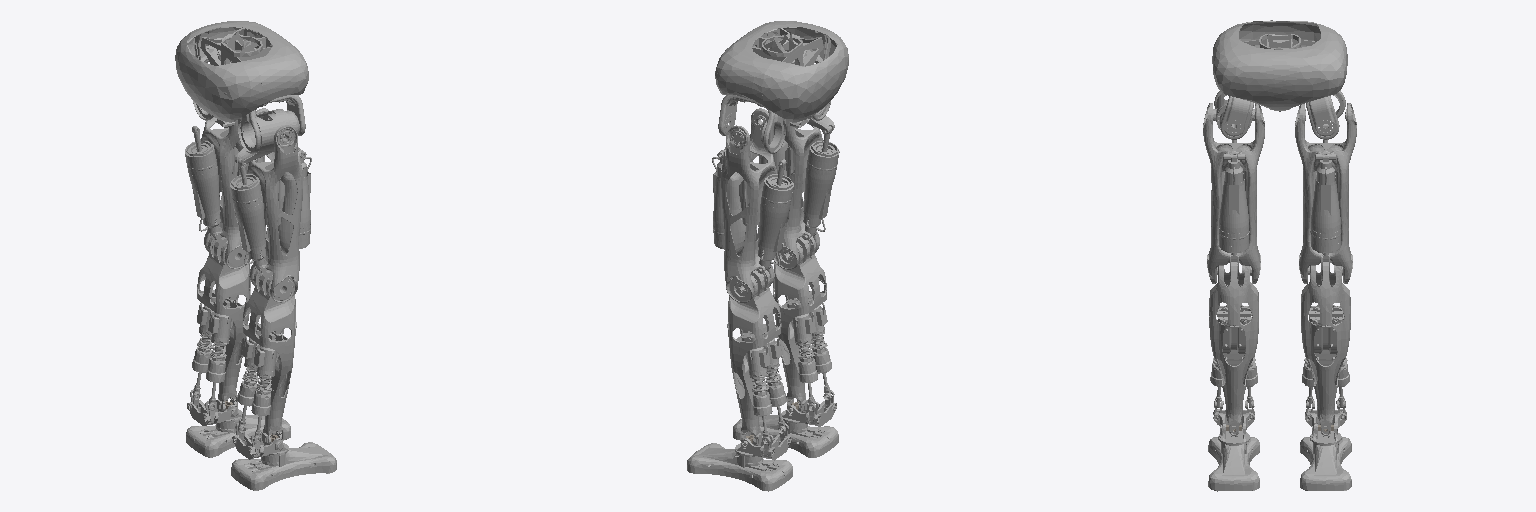
--- Facts derived from the render (not from the file) ---
The picture shows the robot from 3 angles, left to right: view 1: azimuth 30°, elevation 25°; view 2: azimuth 150°, elevation 25°; view 3: azimuth 270°, elevation 25°; orthographic projection.
Model RH5 with 51 links and 50 joints (28 revolute, 8 prismatic, 14 fixed), rooted at RH5_Root_Link, posed every joint at zero.
Visible links, largest first — view 1: RH5_Root_Link, LRHip3_Link, LRKnee_Link, LLKnee_Link, LRAnkle_FT, LLHip3_Link, LLAnkle_FT, LRHip3_Act1_Link, LLHip3_Act1_Link, LRHip2_Link, LLAnkle_B22_Link, LRAnkle_B22_Link (+4 smaller); view 2: RH5_Root_Link, LLHip3_Link, LLKnee_Link, LRKnee_Link, LLAnkle_FT, LRHip3_Link, LRAnkle_FT, LLHip3_Act1_Link, LRHip3_Act1_Link, LLHip1_Link, LRAnkle_B12_Link, LLAnkle_B12_Link (+3 smaller); view 3: RH5_Root_Link, LLKnee_Link, LRKnee_Link, LLHip3_Link, LRHip3_Link, LRAnkle_FT, LLAnkle_FT, LLKnee_B11_Link, LRKnee_B11_Link, LLHip1_Link, LRHip1_Link.
Link boxes in pixels (box(x1,y1,x2,y2)): RH5_Root_Link: box(175, 21, 308, 127); LRHip3_Link: box(247, 108, 306, 302); LRKnee_Link: box(243, 269, 296, 444); LLKnee_Link: box(197, 236, 250, 411); LRAnkle_FT: box(231, 433, 336, 490); LLHip3_Link: box(201, 117, 257, 268); LLAnkle_FT: box(186, 400, 290, 457); LRHip3_Act1_Link: box(230, 174, 265, 268); LLHip3_Act1_Link: box(185, 141, 220, 235); LRHip2_Link: box(235, 109, 299, 167); LLAnkle_B22_Link: box(206, 300, 231, 382); LRAnkle_B22_Link: box(251, 333, 276, 415); RH5_Root_Link: box(715, 21, 848, 127); LLHip3_Link: box(717, 108, 776, 302); LLKnee_Link: box(727, 270, 781, 445); LRKnee_Link: box(773, 236, 826, 412); LLAnkle_FT: box(687, 433, 792, 491); LRHip3_Link: box(766, 120, 822, 269); LRAnkle_FT: box(733, 400, 838, 457); LLHip3_Act1_Link: box(758, 174, 793, 269); LRHip3_Act1_Link: box(803, 141, 839, 236); LLHip1_Link: box(718, 95, 785, 153); LRAnkle_B12_Link: box(792, 300, 817, 382); LLAnkle_B12_Link: box(747, 334, 772, 416); RH5_Root_Link: box(1212, 20, 1347, 111); LLKnee_Link: box(1301, 254, 1350, 435); LRKnee_Link: box(1209, 255, 1258, 435); LLHip3_Link: box(1295, 103, 1356, 283); LRHip3_Link: box(1203, 103, 1264, 283); LRAnkle_FT: box(1208, 409, 1259, 491); LLAnkle_FT: box(1300, 409, 1351, 490); LLKnee_B11_Link: box(1310, 154, 1340, 253); LRKnee_B11_Link: box(1219, 154, 1249, 253); LLHip1_Link: box(1306, 90, 1345, 139); LRHip1_Link: box(1214, 91, 1253, 139).
Bounding box of the posed robot: 0.324 × 0.3709 × 1.15 m (x, y, z).
36 mesh visuals loaded from 22 distinct referenced files (20 binary STL); not drawn: 3 (reference not matched to a file when rendering).

URDF robot description (RH5):
<robot name="RH5">
  <joint name="FLC_FrontLeft" type="fixed">
    <origin xyz="0.13 -0.04 0.0274" rpy="3.1416 0.0 0.0"/>
    <axis xyz="0.0 0.0 0.0"/>
    <parent link="LLAnkle_FT"/>
    <child link="FLC_FrontLeft_Link"/>
  </joint>
  <link name="FLC_FrontLeft_Link">
    <collision name="FLC_FrontLeft_Collision">
      <origin xyz="0.0 0.0 0.0" rpy="0.0 0.0 0.0"/>
      <geometry>
        <sphere radius="0.017"/>
      </geometry>
    </collision>
  </link>
  <joint name="FLC_FrontRight" type="fixed">
    <origin xyz="0.13 0.04 0.0274" rpy="3.1416 0.0 0.0"/>
    <axis xyz="0.0 0.0 0.0"/>
    <parent link="LLAnkle_FT"/>
    <child link="FLC_FrontRight_Link"/>
  </joint>
  <link name="FLC_FrontRight_Link">
    <collision name="FLC_FrontRight_Collision">
      <origin xyz="0.0 0.0 0.0" rpy="0.0 0.0 0.0"/>
      <geometry>
        <sphere radius="0.017"/>
      </geometry>
    </collision>
  </link>
  <joint name="FLC_RearLeft" type="fixed">
    <origin xyz="-0.07 -0.04 0.0274" rpy="3.1416 0.0 0.0"/>
    <axis xyz="0.0 0.0 0.0"/>
    <parent link="LLAnkle_FT"/>
    <child link="FLC_RearLeft_Link"/>
  </joint>
  <link name="FLC_RearLeft_Link">
    <collision name="FLC_RearLeft_Collision">
      <origin xyz="0.0 0.0 0.0" rpy="0.0 0.0 0.0"/>
      <geometry>
        <sphere radius="0.017"/>
      </geometry>
    </collision>
  </link>
  <joint name="FLC_RearRight" type="fixed">
    <origin xyz="-0.07 0.04 0.0274" rpy="3.1416 0.0 0.0"/>
    <axis xyz="0.0 0.0 0.0"/>
    <parent link="LLAnkle_FT"/>
    <child link="FLC_RearRight_Link"/>
  </joint>
  <link name="FLC_RearRight_Link">
    <collision name="FLC_RearRight_Collision">
      <origin xyz="0.0 0.0 0.0" rpy="0.0 0.0 0.0"/>
      <geometry>
        <sphere radius="0.017"/>
      </geometry>
    </collision>
  </link>
  <link name="FL_SupportCenter"/>
  <joint name="FL_SupportCenter" type="fixed">
    <origin xyz="0.03 0.0 0.0444" rpy="3.1416 0.0 0.0"/>
    <axis xyz="0.0 0.0 0.0"/>
    <parent link="LLAnkle_FT"/>
    <child link="FL_SupportCenter"/>
  </joint>
  <joint name="FRC_FrontLeft" type="fixed">
    <origin xyz="0.13 -0.04 0.0274" rpy="3.1416 0.0 0.0"/>
    <axis xyz="0.0 0.0 0.0"/>
    <parent link="LRAnkle_FT"/>
    <child link="FRC_FrontLeft_Link"/>
  </joint>
  <link name="FRC_FrontLeft_Link">
    <collision name="FRC_FrontLeft_Collision">
      <origin xyz="0.0 0.0 0.0" rpy="0.0 0.0 0.0"/>
      <geometry>
        <sphere radius="0.017"/>
      </geometry>
    </collision>
  </link>
  <joint name="FRC_FrontRight" type="fixed">
    <origin xyz="0.13 0.04 0.0274" rpy="3.1416 0.0 0.0"/>
    <axis xyz="0.0 0.0 0.0"/>
    <parent link="LRAnkle_FT"/>
    <child link="FRC_FrontRight_Link"/>
  </joint>
  <link name="FRC_FrontRight_Link">
    <collision name="FRC_FrontRight_Collision">
      <origin xyz="0.0 0.0 0.0" rpy="0.0 0.0 0.0"/>
      <geometry>
        <sphere radius="0.017"/>
      </geometry>
    </collision>
  </link>
  <joint name="FRC_RearLeft" type="fixed">
    <origin xyz="-0.07 -0.04 0.0274" rpy="3.1416 0.0 0.0"/>
    <axis xyz="0.0 0.0 0.0"/>
    <parent link="LRAnkle_FT"/>
    <child link="FRC_RearLeft_Link"/>
  </joint>
  <link name="FRC_RearLeft_Link">
    <collision name="FRC_RearLeft_Collision">
      <origin xyz="0.0 0.0 0.0" rpy="0.0 0.0 0.0"/>
      <geometry>
        <sphere radius="0.017"/>
      </geometry>
    </collision>
  </link>
  <joint name="FRC_RearRight" type="fixed">
    <origin xyz="-0.07 0.04 0.0274" rpy="3.1416 0.0 0.0"/>
    <axis xyz="0.0 0.0 0.0"/>
    <parent link="LRAnkle_FT"/>
    <child link="FRC_RearRight_Link"/>
  </joint>
  <link name="FRC_RearRight_Link">
    <collision name="FRC_RearRight_Collision">
      <origin xyz="0.0 0.0 0.0" rpy="0.0 0.0 0.0"/>
      <geometry>
        <sphere radius="0.017"/>
      </geometry>
    </collision>
  </link>
  <link name="FR_SupportCenter"/>
  <joint name="FR_SupportCenter" type="fixed">
    <origin xyz="0.03 0.0 0.0444" rpy="3.1416 0.0 0.0"/>
    <axis xyz="0.0 0.0 0.0"/>
    <parent link="LRAnkle_FT"/>
    <child link="FR_SupportCenter"/>
  </joint>
  <joint name="LLAnkleBase" type="fixed">
    <origin xyz="0.42 0.0 0.0015" rpy="1.5708 0.0 -1.5708"/>
    <parent link="LLKnee_Link"/>
    <child link="LLAnkleBase_Link"/>
  </joint>
  <link name="LLAnkleBase_Link">
    <inertial>
      <origin xyz="0.0 0.0 0.0" rpy="0.0 0.0 0.0"/>
      <mass value="0.0"/>
      <inertia ixx="0.0" ixy="0.0" ixz="0.0" iyy="0.0" iyz="0.0" izz="0.0"/>
    </inertial>
  </link>
  <joint name="LLAnklePitch" type="revolute">
    <origin xyz="0.0 0.0 0.0" rpy="0.0 0.0 0.0"/>
    <axis xyz="0.0 1.0 0.0"/>
    <parent link="LLAnkleRoll_Link"/>
    <child link="LLAnklePitch_Link"/>
    <limit effort="200.0" lower="-0.8988445648" upper="0.7853981634" velocity="6.0"/>
  </joint>
  <link name="LLAnklePitch_Link">
    <inertial>
      <origin xyz="2.8493e-18 -1.3878e-16 0.0" rpy="0.0 0.0 0.0"/>
      <mass value="2.8252e-05"/>
      <inertia ixx="4.5912e-11" ixy="1.8118e-28" ixz="-1.4548e-27" iyy="6.6802e-11" iyz="5.3633e-27" izz="3.9725e-11"/>
    </inertial>
    <visual name="LLAnklePitch_Link_visual">
      <origin xyz="0.0 0.0 0.0" rpy="0.0 0.0 0.0"/>
      <geometry>
        <mesh filename="../meshes/AnklePitch_Link.STL"/>
      </geometry>
      <material name="">
        <color rgba="0.79216 0.81961 0.93333 1.0"/>
      </material>
    </visual>
  </link>
  <joint name="LLAnkleRoll" type="revolute">
    <origin xyz="0.0 0.0 0.0" rpy="0.0 0.0 0.0"/>
    <axis xyz="1.0 0.0 0.0"/>
    <parent link="LLAnkleBase_Link"/>
    <child link="LLAnkleRoll_Link"/>
    <limit effort="200.0" lower="-0.9948376736" upper="0.9948376736" velocity="6.0"/>
  </joint>
  <link name="LLAnkleRoll_Link">
    <inertial>
      <origin xyz="-4.1608e-08 7.2923e-08 -5.2997e-09" rpy="0.0 0.0 0.0"/>
      <mass value="0.02493"/>
      <inertia ixx="2.9269e-06" ixy="-7.8377e-12" ixz="-1.0382e-12" iyy="1.1591e-06" iyz="1.5876e-12" izz="3.5758e-06"/>
    </inertial>
    <visual name="LLAnkleRoll_Link_visual">
      <origin xyz="0.0 0.0 0.0" rpy="0.0 0.0 0.0"/>
      <geometry>
        <mesh filename="../meshes/AnkleRoll_Link.STL"/>
      </geometry>
      <material name="">
        <color rgba="0.64706 0.61961 0.58824 1.0"/>
      </material>
    </visual>
    <collision name="LLAnkleRoll_Link_collision">
      <origin xyz="0.0 0.0 0.0" rpy="0.0 0.0 0.0"/>
      <geometry>
        <mesh filename="../meshes/AnkleRoll_Link.obj"/>
      </geometry>
    </collision>
  </link>
  <joint name="LLAnkle_Act1" type="prismatic">
    <origin xyz="0.0 0.0 0.26597" rpy="0.0 0.0 0.0"/>
    <axis xyz="0.0 0.0 1.0"/>
    <parent link="LLAnkle_B12_Link"/>
    <child link="LLAnkle_Act1_Link"/>
    <limit effort="571.0" lower="-0.0449" upper="0.0647" velocity="0.266"/>
  </joint>
  <link name="LLAnkle_Act1_Link">
    <inertial>
      <origin xyz="0.0 0.0 0.0" rpy="0.0 0.0 0.0"/>
      <mass value="0.07896134655058572"/>
      <inertia ixx="0.0002465399999951976" ixy="2.2218334565684636e-09" ixz="-1.2305787261017842e-09" iyy="0.00024678" iyz="-6.276200589605272e-08" izz="1.0730000048024368e-06"/>
    </inertial>
    <visual name="LLAnkle_Act1_Link_visual">
      <origin xyz="0.0 0.0 0.0" rpy="0.0 3.14159 1.57079632679"/>
      <geometry>
        <mesh filename="../meshes/Ankle_Act1_Link.STL"/>
      </geometry>
      <material name="">
        <color rgba="0.69804 0.69804 0.69804 1.0"/>
      </material>
    </visual>
    <collision name="LLAnkle_Act1_Link_collision">
      <origin xyz="0.0 0.0 0.0" rpy="0.0 3.14159 1.57079632679"/>
      <geometry>
        <mesh filename="../meshes/Ankle_Act1_Link.obj"/>
      </geometry>
    </collision>
  </link>
  <joint name="LLAnkle_Act2" type="prismatic">
    <origin xyz="0.0 0.0 0.26597" rpy="0.0 0.0 0.0"/>
    <axis xyz="0.0 0.0 1.0"/>
    <parent link="LLAnkle_B22_Link"/>
    <child link="LLAnkle_Act2_Link"/>
    <limit effort="571.0" lower="-0.0449" upper="0.0647" velocity="0.266"/>
  </joint>
  <link name="LLAnkle_Act2_Link">
    <inertial>
      <origin xyz="0.0 0.0 0.0" rpy="0.0 -0.0 0.0"/>
      <mass value="0.07896134655058568"/>
      <inertia ixx="0.00024653999999529885" ixy="-2.1503334660041774e-09" ixz="-1.2114887257947331e-09" iyy="0.00024678" iyz="6.275800570632389e-08" izz="1.0730000047011228e-06"/>
    </inertial>
    <visual name="LLAnkle_Act2_Link_visual">
      <origin xyz="0.0 0.0 0.0" rpy="0.0 3.14159 0.0"/>
      <geometry>
        <mesh filename="../meshes/Ankle_Act2_Link.STL"/>
      </geometry>
      <material name="">
        <color rgba="0.69804 0.69804 0.69804 1.0"/>
      </material>
    </visual>
    <collision name="LLAnkle_Act2_Link_collision">
      <origin xyz="0.0 0.0 0.0" rpy="0.0 3.14159 0.0"/>
      <geometry>
        <mesh filename="../meshes/Ankle_Act2_Link.obj"/>
      </geometry>
    </collision>
  </link>
  <joint name="LLAnkle_B11" type="revolute">
    <origin xyz="-0.0223 0.025 0.29127" rpy="3.091 -0.174503 3.14159"/>
    <axis xyz="1.0 0.0 0.0"/>
    <parent link="LLAnkleBase_Link"/>
    <child link="LLAnkle_B11_Link"/>
    <limit effort="0.0" lower="0" upper="0" velocity="0.0"/>
  </joint>
  <link name="LLAnkle_B11_Link">
    <inertial>
      <origin xyz="-0.0026075 -1.6785e-12 0.0015126" rpy="0.0 0.0 0.0"/>
      <mass value="0.00654"/>
      <inertia ixx="1.5907e-06" ixy="3.9038e-14" ixz="8.7457e-09" iyy="1.8739e-06" iyz="8.1942e-15" izz="3.3241e-06"/>
    </inertial>
    <visual name="LLAnkle_B11_Link_visual">
      <origin xyz="0.0 0.0 0.0" rpy="0.0 0.0 0.0"/>
      <geometry>
        <mesh filename="../meshes/Ankle_B11_Link.STL"/>
      </geometry>
      <material name="">
        <color rgba="0.69804 0.69804 0.69804 1.0"/>
      </material>
    </visual>
    <collision name="LLAnkle_B11_Link_collision">
      <origin xyz="0.0 0.0 0.0" rpy="0.0 0.0 0.0"/>
      <geometry>
        <mesh filename="../meshes/Ankle_B11_Link.obj"/>
      </geometry>
    </collision>
  </link>
  <joint name="LLAnkle_B12" type="revolute">
    <origin xyz="0.0 0.0 0.0" rpy="0.0 -0.0060102 0.0"/>
    <axis xyz="0.0 1.0 0.0"/>
    <parent link="LLAnkle_B11_Link"/>
    <child link="LLAnkle_B12_Link"/>
    <limit effort="0.0" lower="0" upper="0" velocity="0.0"/>
  </joint>
  <link name="LLAnkle_B12_Link">
    <inertial>
      <origin xyz="0.0 0.0 0.0" rpy="0.0 -0.0 0.0"/>
      <mass value="0.626756605161674"/>
      <inertia ixx="0.0024658002179549095" ixy="-7.781387113609205e-08" ixz="4.106487105614771e-05" iyy="0.0024841" iyz="4.2541020648759203e-07" izz="0.0001561197820450909"/>
    </inertial>
    <visual name="LLAnkle_B12_Link_visual">
      <origin xyz="0.0 0.0 0.0" rpy="0.0 3.14159 0.0"/>
      <geometry>
        <mesh filename="../meshes/Ankle_B12_Link.STL"/>
      </geometry>
      <material name="">
        <color rgba="0.69804 0.69804 0.69804 1.0"/>
      </material>
    </visual>
    <collision name="LLAnkle_B12_Link_collision">
      <origin xyz="0.0 0.0 0.0" rpy="0.0 3.14159 0.0"/>
      <geometry>
        <mesh filename="../meshes/Ankle_B12_Link.obj"/>
      </geometry>
    </collision>
  </link>
  <joint name="LLAnkle_B21" type="revolute">
    <origin xyz="-0.0223 -0.025 0.29127" rpy="-3.09098 -0.174503 3.14159"/>
    <axis xyz="1.0 0.0 0.0"/>
    <parent link="LLAnkleBase_Link"/>
    <child link="LLAnkle_B21_Link"/>
    <limit effort="0.0" lower="0" upper="0" velocity="0.0"/>
  </joint>
  <link name="LLAnkle_B21_Link">
    <inertial>
      <origin xyz="-0.0026075 1.5362e-12 0.0015126" rpy="0.0 0.0 0.0"/>
      <mass value="0.00654"/>
      <inertia ixx="1.5907e-06" ixy="3.9046e-14" ixz="8.7457e-09" iyy="1.8739e-06" iyz="-5.5038e-15" izz="3.3241e-06"/>
    </inertial>
    <visual name="LLAnkle_B21_Link_visual">
      <origin xyz="0.0 0.0 0.0" rpy="0.0 0.0 0.0"/>
      <geometry>
        <mesh filename="../meshes/Ankle_B21_Link.STL"/>
      </geometry>
      <material name="">
        <color rgba="0.69804 0.69804 0.69804 1.0"/>
      </material>
    </visual>
    <collision name="LLAnkle_B21_Link_collision">
      <origin xyz="0.0 0.0 0.0" rpy="0.0 0.0 0.0"/>
      <geometry>
        <mesh filename="../meshes/Ankle_B21_Link.obj"/>
      </geometry>
    </collision>
  </link>
  <joint name="LLAnkle_B22" type="revolute">
    <origin xyz="0.0 0.0 0.0" rpy="0.0 -0.0060102 0.0"/>
    <axis xyz="0.0 1.0 0.0"/>
    <parent link="LLAnkle_B21_Link"/>
    <child link="LLAnkle_B22_Link"/>
    <limit effort="0.0" lower="0" upper="0" velocity="0.0"/>
  </joint>
  <link name="LLAnkle_B22_Link">
    <inertial>
      <origin xyz="0.0 0.0 0.0" rpy="0.0 0.0 0.0"/>
      <mass value="0.6267566051616451"/>
      <inertia ixx="0.0024658002179549095" ixy="-7.617188419175961e-08" ixz="4.106487105614771e-05" iyy="0.0024841" iyz="4.204902021304149e-07" izz="0.0001561197820450909"/>
    </inertial>
    <visual name="LLAnkle_B22_Link_visual">
      <origin xyz="0.0 0.0 0.0" rpy="0.0 3.14159 0.0"/>
      <geometry>
        <mesh filename="../meshes/Ankle_B22_Link.STL"/>
      </geometry>
      <material name="">
        <color rgba="0.69804 0.69804 0.69804 1.0"/>
      </material>
    </visual>
    <collision name="LLAnkle_B22_Link_collision">
      <origin xyz="0.0 0.0 0.0" rpy="0.0 3.14159 0.0"/>
      <geometry>
        <mesh filename="../meshes/Ankle_B22_Link.obj"/>
      </geometry>
    </collision>
  </link>
  <joint name="LLAnkle_E11" type="revolute">
    <origin xyz="-0.07 0.04 0.0" rpy="0.05066 0.0 0.0"/>
    <axis xyz="1.0 0.0 0.0"/>
    <parent link="LLAnklePitch_Link"/>
    <child link="LLAnkle_E11_Link"/>
    <limit effort="0.0" lower="0" upper="0" velocity="0.0"/>
  </joint>
  <link name="LLAnkle_E11_Link">
    <inertial>
      <origin xyz="-3.2627e-08 -0.00061479 0.011938" rpy="0.0 0.0 0.0"/>
      <mass value="0.025"/>
      <inertia ixx="5.6966e-06" ixy="2.0874e-13" ixz="-6.1394e-13" iyy="5.4356e-06" iyz="2.0391e-07" izz="1.4865e-06"/>
    </inertial>
    <visual name="LLAnkle_E11_Link_visual">
      <origin xyz="0.0 0.0 0.0" rpy="0.0 0.0 0.0"/>
      <geometry>
        <mesh filename="../meshes/Ankle_E11_Link.STL"/>
      </geometry>
      <material name="">
        <color rgba="0.69804 0.69804 0.69804 1.0"/>
      </material>
    </visual>
    <collision name="LLAnkle_E11_Link_collision">
      <origin xyz="0.0 0.0 0.0" rpy="0.0 0.0 0.0"/>
      <geometry>
        <mesh filename="../meshes/Ankle_E11_Link.obj"/>
      </geometry>
    </collision>
  </link>
  <joint name="LLAnkle_E21" type="revolute">
    <origin xyz="-0.07 -0.04 0.0" rpy="-0.05066 0.0 0.0"/>
    <axis xyz="1.0 0.0 0.0"/>
    <parent link="LLAnklePitch_Link"/>
    <child link="LLAnkle_E21_Link"/>
    <limit effort="0.0" lower="0" upper="0" velocity="0.0"/>
  </joint>
  <link name="LLAnkle_E21_Link">
    <inertial>
      <origin xyz="-3.2627e-08 0.00061479 0.011938" rpy="0.0 0.0 0.0"/>
      <mass value="0.025"/>
      <inertia ixx="5.6966e-06" ixy="-2.0874e-13" ixz="-6.1394e-13" iyy="5.4356e-06" iyz="-2.0391e-07" izz="1.4865e-06"/>
    </inertial>
    <visual name="LLAnkle_E21_Link_visual">
      <origin xyz="0.0 0.0 0.0" rpy="0.0 0.0 0.0"/>
      <geometry>
        <mesh filename="../meshes/Ankle_E21_Link.STL"/>
      </geometry>
      <material name="">
        <color rgba="0.69804 0.69804 0.69804 1.0"/>
      </material>
    </visual>
    <collision name="LLAnkle_E21_Link_collision">
      <origin xyz="0.0 0.0 0.0" rpy="0.0 0.0 0.0"/>
      <geometry>
        <mesh filename="../meshes/Ankle_E21_Link.obj"/>
      </geometry>
    </collision>
  </link>
  <link name="LLAnkle_FT">
    <inertial>
      <origin xyz="0.016102 4.5932e-05 0.0078533" rpy="0.0 0.0 0.0"/>
      <mass value="1.2348"/>
      <inertia ixx="0.0018722" ixy="1.7891e-07" ixz="-0.00077672" iyy="0.0072567" iyz="3.8393e-06" izz="0.007267"/>
    </inertial>
    <visual name="LLAnkle_FT_visual">
      <origin xyz="0.0 0.0 0.0" rpy="0.0 0.0 0.0"/>
      <geometry>
        <mesh filename="../meshes/FL_FT_Link.STL"/>
      </geometry>
      <material name="">
        <color rgba="0.69804 0.69804 0.69804 1.0"/>
      </material>
    </visual>
    <collision name="LLAnkle_FT_collision">
      <origin xyz="0.0 0.0 0.0" rpy="0.0 0.0 0.0"/>
      <geometry>
        <mesh filename="../meshes/FL_FT_Link.obj"/>
      </geometry>
    </collision>
  </link>
  <joint name="LLAnkle_FT" type="fixed">
    <origin xyz="0.0 0.0 -0.058972" rpy="-3.1416 0.0 -1.2151e-16"/>
    <axis xyz="0.0 0.0 0.0"/>
    <parent link="LLAnklePitch_Link"/>
    <child link="LLAnkle_FT"/>
  </joint>
  <joint name="LLHip1" type="revolute">
    <origin xyz="0.0735 0.11044 0.014269" rpy="8.0247e-16 0.2618 -1.5708"/>
    <axis xyz="0.0 0.0 1.0"/>
    <parent link="RH5_Root_Link"/>
    <child link="LLHip1_Link"/>
    <limit effort="135.0" lower="-0.7854" upper="0.7854" velocity="1.8326"/>
  </joint>
  <link name="LLHip1_Link">
    <inertial>
      <origin xyz="-4.7812e-08 -0.0016168 0.04962" rpy="0.0 0.0 0.0"/>
      <mass value="0.5"/>
      <inertia ixx="0.0020247" ixy="7.2405e-09" ixz="3.8164e-09" iyy="0.00095765" iyz="-0.00012913" izz="0.0015078"/>
    </inertial>
    <visual name="LLHip1_Link_visual">
      <origin xyz="0.0 0.0 0.0" rpy="0.0 0.0 0.0"/>
      <geometry>
        <mesh filename="../meshes/LLHip1_Link.STL"/>
      </geometry>
      <material name="">
        <color rgba="0.69804 0.69804 0.69804 1.0"/>
      </material>
    </visual>
    <collision name="LLHip1_Link_collision">
      <origin xyz="0.0 0.0 0.0" rpy="0.0 0.0 0.0"/>
      <geometry>
        <mesh filename="../meshes/LLHip1_Link.obj"/>
      </geometry>
    </collision>
  </link>
  <joint name="LLHip2" type="revolute">
    <origin xyz="0.0 0.0 0.0" rpy="9.8608e-32 2.7756e-17 -4.9304e-32"/>
    <axis xyz="0.0 1.0 0.0"/>
    <parent link="LLHip1_Link"/>
    <child link="LLHip2_Link"/>
    <limit effort="135.0" lower="-0.4363" upper="0.8727" velocity="1.8326"/>
  </joint>
  <link name="LLHip2_Link">
    <inertial>
      <origin xyz="0.0013954 0.0024309 -0.0053241" rpy="0.0 0.0 0.0"/>
      <mass value="0.969"/>
      <inertia ixx="0.0017014" ixy="7.9487e-05" ixz="4.6091e-05" iyy="0.0011578" iyz="-0.0003011" izz="0.0015428"/>
    </inertial>
    <visual name="LLHip2_Link_visual">
      <origin xyz="0.0 0.0 0.0" rpy="0.0 0.0 0.0"/>
      <geometry>
        <mesh filename="../meshes/LLHip2_Link.STL"/>
      </geometry>
      <material name="">
        <color rgba="0.69804 0.69804 0.69804 1.0"/>
      </material>
    </visual>
  </link>
  <joint name="LLHip3" type="revolute">
    <origin xyz="0.0 0.0 0.0" rpy="9.8608e-32 2.7756e-17 -4.9304e-32"/>
    <axis xyz="-0.96593 0.0 -0.25882"/>
    <parent link="LLHip2_Link"/>
    <child link="LLHip3_Link"/>
    <limit effort="378.0" lower="-1.16" upper="0.28" velocity="2.321"/>
  </joint>
  <joint name="LLHip3_Act1" type="prismatic">
    <origin xyz="0.2974 0.0 0.0" rpy="3.1416 -5.2385e-31 0.0"/>
    <axis xyz="1.0 0.0 0.0"/>
    <parent link="LLHip3_B11_Link"/>
    <child link="LLHip3_Act1_Link"/>
    <limit effort="3000.0" lower="-0.0255" upper="0.1335" velocity="0.175"/>
  </joint>
  <link name="LLHip3_Act1_Link">
    <inertial>
      <origin xyz="-0.16939 -0.00046849 4.4559e-05" rpy="0.0 0.0 0.0"/>
      <mass value="1.224"/>
      <inertia ixx="0.00077764" ixy="5.3759e-05" ixz="4.1291e-07" iyy="0.0059452" iyz="-2.966e-08" izz="0.0059569"/>
    </inertial>
    <visual name="LLHip3_Act1_Link_visual">
      <origin xyz="0.0 0.0 0.0" rpy="0.0 0.0 0.0"/>
      <geometry>
        <mesh filename="../meshes/LLHip3_Act1_Link.STL"/>
      </geometry>
      <material name="">
        <color rgba="0.69804 0.69804 0.69804 1.0"/>
      </material>
    </visual>
    <collision name="LLHip3_Act1_Link_collision">
      <origin xyz="0.0 0.0 0.0" rpy="0.0 0.0 0.0"/>
      <geometry>
        <mesh filename="../meshes/LLHip3_Act1_Link.obj"/>
      </geometry>
    </collision>
  </link>
  <joint name="LLHip3_B11" type="revolute">
    <origin xyz="0.018117 -0.09 -0.067615" rpy="-2.5686 1.2577 0.59588"/>
    <axis xyz="0.0 0.0 1.0"/>
    <parent link="LLHip2_Link"/>
    <child link="LLHip3_B11_Link"/>
    <limit effort="0.0" lower="0" upper="0" velocity="0.0"/>
  </joint>
  <link name="LLHip3_B11_Link">
    <inertial>
      <origin xyz="0.10645 -2.4289e-13 1.9568e-15" rpy="0.0 0.0 0.0"/>
      <mass value="0.16503"/>
      <inertia ixx="3.4113e-06" ixy="3.8263e-12" ixz="-7.0537e-16" iyy="0.00081967" iyz="-1.7661e-15" izz="0.00081963"/>
    </inertial>
    <visual name="LLHip3_B11_Link_visual">
      <origin xyz="0.0 0.0 0.0" rpy="0.0 0.0 0.0"/>
      <geometry>
        <mesh filename="../meshes/Hip3_B11_Link.STL"/>
      </geometry>
      <material name="">
        <color rgba="0.69804 0.69804 0.69804 1.0"/>
      </material>
    </visual>
    <collision name="LLHip3_B11_Link_collision">
      <origin xyz="0.0 0.0 0.0" rpy="0.0 0.0 0.0"/>
      <geometry>
        <mesh filename="../meshes/Hip3_B11_Link.obj"/>
      </geometry>
    </collision>
  </link>
  <link name="LLHip3_Link">
    <inertial>
      <origin xyz="0.051263 0.0072511 -0.19232" rpy="0.0 0.0 0.0"/>
      <mass value="1.0487"/>
      <inertia ixx="0.020383" ixy="3.4682e-05" ixz="0.0047264" iyy="0.022629" iyz="-0.00014075" izz="0.0042174"/>
    </inertial>
    <visual name="LLHip3_Link_visual">
      <origin xyz="0.0 0.0 0.0" rpy="0.0 0.0 0.0"/>
      <geometry>
        <mesh filename="../meshes/Hip3_Link.STL"/>
      </geometry>
      <material name="">
        <color rgba="0.69804 0.69804 0.69804 1.0"/>
      </material>
    </visual>
    <collision name="LLHip3_Link_collision">
      <origin xyz="0.0 0.0 0.0" rpy="0.0 0.0 0.0"/>
      <geometry>
        <mesh filename="../meshes/Hip3_Link.obj"/>
      </geometry>
    </collision>
  </link>
  <joint name="LLKnee" type="revolute">
    <origin xyz="0.10788 -0.0005 -0.39684" rpy="3.1416 1.309 -2.9949e-15"/>
    <axis xyz="0.0 0.0 1.0"/>
    <parent link="LLHip3_Link"/>
    <child link="LLKnee_Link"/>
    <limit effort="325.0" lower="-0.026" upper="1.43" velocity="2.321"/>
  </joint>
  <joint name="LLKnee_Act1" type="prismatic">
    <origin xyz="0.27341 0.0 0.0" rpy="0.0 7.7037e-32 -6.9389e-18"/>
    <axis xyz="1.0 0.0 0.0"/>
    <parent link="LLKnee_B11_Link"/>
    <child link="LLKnee_Act1_Link"/>
    <limit effort="1825.0" lower="0.0" upper="0.1175" velocity="0.14"/>
  </joint>
  <link name="LLKnee_Act1_Link">
    <inertial>
      <origin xyz="-0.10645 -2.465e-13 1.5266e-16" rpy="0.0 0.0 0.0"/>
      <mass value="0.16503"/>
      <inertia ixx="3.4113e-06" ixy="-3.8263e-12" ixz="-7.1291e-16" iyy="0.00081967" iyz="1.7661e-15" izz="0.00081963"/>
    </inertial>
    <visual name="LLKnee_Act1_Link_visual">
      <origin xyz="0.0 0.0 0.0" rpy="0.0 0.0 0.0"/>
      <geometry>
        <mesh filename="../meshes/Knee_Act1_Link.STL"/>
      </geometry>
      <material name="">
        <color rgba="0.69804 0.69804 0.69804 1.0"/>
      </material>
    </visual>
    <collision name="LLKnee_Act1_Link_collision">
      <origin xyz="0.0 0.0 0.0" rpy="0.0 0.0 0.0"/>
      <geometry>
        <mesh filename="../meshes/Knee_Act1_Link.obj"/>
      </geometry>
    </collision>
  </link>
  <joint name="LLKnee_B11" type="revolute">
    <origin xyz="0.020175 0.070737 -0.075294" rpy="-0.15081 1.3059 -0.15617"/>
    <axis xyz="0.0 0.0 -1.0"/>
    <parent link="LLHip3_Link"/>
    <child link="LLKnee_B11_Link"/>
    <limit effort="0.0" lower="0" upper="0" velocity="0.0"/>
  </joint>
  <link name="LLKnee_B11_Link">
    <inertial>
      <origin xyz="0.16939 0.00046866 4.4515e-05" rpy="0.0 0.0 0.0"/>
      <mass value="1.224"/>
      <inertia ixx="0.00077764" ixy="5.3789e-05" ixz="-4.184e-07" iyy="0.0059454" iyz="3.0443e-08" izz="0.0059571"/>
    </inertial>
    <visual name="LLKnee_B11_Link_visual">
      <origin xyz="0.0 0.0 0.0" rpy="0.0 0.0 0.0"/>
      <geometry>
        <mesh filename="../meshes/Knee_B11_Link.STL"/>
      </geometry>
      <material name="">
        <color rgba="0.69804 0.69804 0.69804 1.0"/>
      </material>
    </visual>
    <collision name="LLKnee_B11_Link_collision">
      <origin xyz="0.0 0.0 0.0" rpy="0.0 0.0 0.0"/>
      <geometry>
        <mesh filename="../meshes/Knee_B11_Link.obj"/>
      </geometry>
    </collision>
  </link>
  <link name="LLKnee_Link">
    <inertial>
      <origin xyz="0.11911 -0.001888 0.00058411" rpy="0.0 0.0 0.0"/>
      <mass value="0.94401"/>
      <inertia ixx="0.0017333" ixy="-5.494e-05" ixz="-0.00010491" iyy="0.01483" iyz="2.0836e-06" izz="0.014618"/>
    </inertial>
    <visual name="LLKnee_Link_visual">
      <origin xyz="0.0 0.0 0.0" rpy="0.0 0.0 0.0"/>
      <geometry>
        <mesh filename="../meshes/Knee_Link.STL"/>
      </geometry>
      <material name="">
        <color rgba="0.69804 0.69804 0.69804 1.0"/>
      </material>
    </visual>
    <collision name="LLKnee_Link_collision">
      <origin xyz="0.0 0.0 0.0" rpy="0.0 0.0 0.0"/>
      <geometry>
        <mesh filename="../meshes/Knee_Link.obj"/>
      </geometry>
    </collision>
  </link>
  <joint name="LRAnkleBase" type="fixed">
    <origin xyz="0.42 0.0 0.0015" rpy="1.5708 -0.0 -1.5708"/>
    <axis xyz="0.0 0.0 0.0"/>
    <parent link="LRKnee_Link"/>
    <child link="LRAnkleBase_Link"/>
  </joint>
  <link name="LRAnkleBase_Link">
    <inertial>
      <origin xyz="0.0 0.0 0.0" rpy="0.0 0.0 0.0"/>
      <mass value="0.0"/>
      <inertia ixx="0.0" ixy="0.0" ixz="0.0" iyy="0.0" iyz="0.0" izz="0.0"/>
    </inertial>
  </link>
  <joint name="LRAnklePitch" type="revolute">
    <origin xyz="0.0 0.0 0.0" rpy="0.0 0.0 0.0"/>
    <axis xyz="0.0 1.0 0.0"/>
    <parent link="LRAnkleRoll_Link"/>
    <child link="LRAnklePitch_Link"/>
    <limit effort="200.0" lower="-0.8988445648" upper="0.7853981634" velocity="6.0"/>
  </joint>
  <link name="LRAnklePitch_Link">
    <inertial>
      <origin xyz="2.8493e-18 -1.3878e-16 0.0" rpy="0.0 0.0 0.0"/>
      <mass value="2.8252e-05"/>
      <inertia ixx="4.5912e-11" ixy="1.8118e-28" ixz="-1.4548e-27" iyy="6.6802e-11" iyz="5.3633e-27" izz="3.9725e-11"/>
    </inertial>
    <visual name="LRAnklePitch_Link_visual">
      <origin xyz="0.0 0.0 0.0" rpy="0.0 0.0 0.0"/>
      <geometry>
        <mesh filename="../meshes/AnklePitch_Link.STL"/>
      </geometry>
      <material name="">
        <color rgba="0.79216 0.81961 0.93333 1.0"/>
      </material>
    </visual>
  </link>
  <joint name="LRAnkleRoll" type="revolute">
    <origin xyz="0.0 0.0 0.0" rpy="0.0 0.0 0.0"/>
    <axis xyz="1.0 0.0 0.0"/>
    <parent link="LRAnkleBase_Link"/>
    <child link="LRAnkleRoll_Link"/>
    <limit effort="200.0" lower="-0.9948376736" upper="0.9948376736" velocity="6.0"/>
  </joint>
  <link name="LRAnkleRoll_Link">
    <inertial>
      <origin xyz="-4.1608e-08 7.2923e-08 -5.2997e-09" rpy="0.0 0.0 0.0"/>
      <mass value="0.02493"/>
      <inertia ixx="2.9269e-06" ixy="-7.8377e-12" ixz="-1.0382e-12" iyy="1.1591e-06" iyz="1.5876e-12" izz="3.5758e-06"/>
    </inertial>
    <visual name="LRAnkleRoll_Link_visual">
      <origin xyz="0.0 0.0 0.0" rpy="0.0 0.0 0.0"/>
      <geometry>
        <mesh filename="../meshes/AnkleRoll_Link.STL"/>
      </geometry>
      <material name="">
        <color rgba="0.64706 0.61961 0.58824 1.0"/>
      </material>
    </visual>
    <collision name="LRAnkleRoll_Link_collision">
      <origin xyz="0.0 0.0 0.0" rpy="0.0 0.0 0.0"/>
      <geometry>
        <mesh filename="../meshes/AnkleRoll_Link.obj"/>
      </geometry>
    </collision>
  </link>
  <joint name="LRAnkle_Act1" type="prismatic">
    <origin xyz="0.0 0.0 0.26597" rpy="0.0 0.0 0.0"/>
    <axis xyz="0.0 0.0 1.0"/>
    <parent link="LRAnkle_B12_Link"/>
    <child link="LRAnkle_Act1_Link"/>
    <limit effort="571.0" lower="-0.0449" upper="0.0647" velocity="0.266"/>
  </joint>
  <link name="LRAnkle_Act1_Link">
    <inertial>
      <origin xyz="0.0 0.0 0.0" rpy="0.0 -0.0 0.0"/>
      <mass value="0.07896134655058572"/>
      <inertia ixx="0.0002465399999951976" ixy="2.2218334565684636e-09" ixz="-1.2305787261017842e-09" iyy="0.00024678" iyz="-6.276200589605272e-08" izz="1.0730000048024368e-06"/>
    </inertial>
    <visual name="LRAnkle_Act1_Link_visual">
      <origin xyz="0.0 0.0 0.0" rpy="0.0 3.14159 1.57079632679"/>
      <geometry>
        <mesh filename="../meshes/Ankle_Act1_Link.STL"/>
      </geometry>
      <material name="">
        <color rgba="0.69804 0.69804 0.69804 1.0"/>
      </material>
    </visual>
    <collision name="LRAnkle_Act1_Link_collision">
      <origin xyz="0.0 0.0 0.0" rpy="0.0 3.14159 1.57079632679"/>
      <geometry>
        <mesh filename="../meshes/Ankle_Act1_Link.obj"/>
      </geometry>
    </collision>
  </link>
  <joint name="LRAnkle_Act2" type="prismatic">
    <origin xyz="0.0 0.0 0.26597" rpy="0.0 0.0 0.0"/>
    <axis xyz="0.0 0.0 1.0"/>
    <parent link="LRAnkle_B22_Link"/>
    <child link="LRAnkle_Act2_Link"/>
    <limit effort="571.0" lower="-0.0449" upper="0.0647" velocity="0.266"/>
  </joint>
  <link name="LRAnkle_Act2_Link">
    <inertial>
      <origin xyz="0.0 0.0 0.0" rpy="0.0 -0.0 0.0"/>
      <mass value="0.07896134655058568"/>
      <inertia ixx="0.00024653999999529885" ixy="-2.1503334660041774e-09" ixz="-1.2114887257947331e-09" iyy="0.00024678" iyz="6.275800570632389e-08" izz="1.0730000047011228e-06"/>
    </inertial>
    <visual name="LRAnkle_Act2_Link_visual">
      <origin xyz="0.0 0.0 0.0" rpy="0.0 3.14159 0.0"/>
      <geometry>
        <mesh filename="../meshes/Ankle_Act2_Link.STL"/>
      </geometry>
      <material name="">
        <color rgba="0.69804 0.69804 0.69804 1.0"/>
      </material>
    </visual>
    <collision name="LRAnkle_Act2_Link_collision">
      <origin xyz="0.0 0.0 0.0" rpy="0.0 3.14159 0.0"/>
      <geometry>
        <mesh filename="../meshes/Ankle_Act2_Link.obj"/>
      </geometry>
    </collision>
  </link>
  <joint name="LRAnkle_B11" type="revolute">
    <origin xyz="-0.0223 0.025 0.29127" rpy="3.091 -0.174503 3.14159"/>
    <axis xyz="1.0 0.0 0.0"/>
    <parent link="LRAnkleBase_Link"/>
    <child link="LRAnkle_B11_Link"/>
    <limit effort="0.0" lower="0" upper="0" velocity="0.0"/>
  </joint>
  <link name="LRAnkle_B11_Link">
    <inertial>
      <origin xyz="-0.0026075 -1.6785e-12 0.0015126" rpy="0.0 0.0 0.0"/>
      <mass value="0.00654"/>
      <inertia ixx="1.5907e-06" ixy="3.9038e-14" ixz="8.7457e-09" iyy="1.8739e-06" iyz="8.1942e-15" izz="3.3241e-06"/>
    </inertial>
    <visual name="LRAnkle_B11_Link_visual">
      <origin xyz="0.0 0.0 0.0" rpy="0.0 0.0 0.0"/>
      <geometry>
        <mesh filename="../meshes/Ankle_B11_Link.STL"/>
      </geometry>
      <material name="">
        <color rgba="0.69804 0.69804 0.69804 1.0"/>
      </material>
    </visual>
    <collision name="LRAnkle_B11_Link_collision">
      <origin xyz="0.0 0.0 0.0" rpy="0.0 0.0 0.0"/>
      <geometry>
        <mesh filename="../meshes/Ankle_B11_Link.obj"/>
      </geometry>
    </collision>
  </link>
  <joint name="LRAnkle_B12" type="revolute">
    <origin xyz="0.0 0.0 0.0" rpy="0.0 -0.0060102 0.0"/>
    <axis xyz="0.0 1.0 0.0"/>
    <parent link="LRAnkle_B11_Link"/>
    <child link="LRAnkle_B12_Link"/>
    <limit effort="0.0" lower="0" upper="0" velocity="0.0"/>
  </joint>
  <link name="LRAnkle_B12_Link">
    <inertial>
      <origin xyz="0.0 0.0 0.0" rpy="0.0 -0.0 0.0"/>
      <mass value="0.626756605161674"/>
      <inertia ixx="0.0024658002179549095" ixy="-7.781387113609205e-08" ixz="4.106487105614771e-05" iyy="0.0024841" iyz="4.2541020648759203e-07" izz="0.0001561197820450909"/>
    </inertial>
    <visual name="LRAnkle_B12_Link_visual">
      <origin xyz="0.0 0.0 0.0" rpy="0.0 3.14159 0.0"/>
      <geometry>
        <mesh filename="../meshes/Ankle_B12_Link.STL"/>
      </geometry>
      <material name="">
        <color rgba="0.69804 0.69804 0.69804 1.0"/>
      </material>
    </visual>
    <collision name="LRAnkle_B12_Link_collision">
      <origin xyz="0.0 0.0 0.0" rpy="0.0 3.14159 0.0"/>
      <geometry>
        <mesh filename="../meshes/Ankle_B12_Link.obj"/>
      </geometry>
    </collision>
  </link>
  <joint name="LRAnkle_B21" type="revolute">
    <origin xyz="-0.0223 -0.025 0.29127" rpy="-3.09098 -0.174503 3.14159"/>
    <axis xyz="1.0 0.0 0.0"/>
    <parent link="LRAnkleBase_Link"/>
    <child link="LRAnkle_B21_Link"/>
    <limit effort="0.0" lower="0" upper="0" velocity="0.0"/>
  </joint>
  <link name="LRAnkle_B21_Link">
    <inertial>
      <origin xyz="0.0 0.0 0.0" rpy="0.0 -0.0 0.0"/>
      <mass value="0.006540000004287366"/>
      <inertia ixx="1.5907000464272066e-06" ixy="-3.904598539503503e-14" ixz="8.750299732424617e-09" iyy="1.8739e-06" iyz="5.503903612047694e-15" izz="3.324099953572794e-06"/>
    </inertial>
    <visual name="LRAnkle_B21_Link_visual">
      <origin xyz="0.0 0.0 0.0" rpy="0.0 3.14159 0.0"/>
      <geometry>
        <mesh filename="../meshes/Ankle_B21_Link.STL"/>
      </geometry>
      <material name="">
        <color rgba="0.69804 0.69804 0.69804 1.0"/>
      </material>
    </visual>
    <collision name="LRAnkle_B21_Link_collision">
      <origin xyz="0.0 0.0 0.0" rpy="0.0 3.14159 0.0"/>
      <geometry>
        <mesh filename="../meshes/Ankle_B21_Link.obj"/>
      </geometry>
    </collision>
  </link>
  <joint name="LRAnkle_B22" type="revolute">
    <origin xyz="0.0 0.0 0.0" rpy="0.0 -0.0060102 0.0"/>
    <axis xyz="0.0 1.0 0.0"/>
    <parent link="LRAnkle_B21_Link"/>
    <child link="LRAnkle_B22_Link"/>
    <limit effort="0.0" lower="0" upper="0" velocity="0.0"/>
  </joint>
  <link name="LRAnkle_B22_Link">
    <inertial>
      <origin xyz="0.0 0.0 0.0" rpy="0.0 -0.0 0.0"/>
      <mass value="0.6267566051616451"/>
      <inertia ixx="0.0024658002179549095" ixy="-7.617188419175961e-08" ixz="4.106487105614771e-05" iyy="0.0024841" iyz="4.204902021304149e-07" izz="0.0001561197820450909"/>
    </inertial>
    <visual name="LRAnkle_B22_Link_visual">
      <origin xyz="0.0 0.0 0.0" rpy="0.0 3.14159 0.0"/>
      <geometry>
        <mesh filename="../meshes/Ankle_B22_Link.STL"/>
      </geometry>
      <material name="">
        <color rgba="0.69804 0.69804 0.69804 1.0"/>
      </material>
    </visual>
    <collision name="LRAnkle_B22_Link_collision">
      <origin xyz="0.0 0.0 0.0" rpy="0.0 3.14159 0.0"/>
      <geometry>
        <mesh filename="../meshes/Ankle_B22_Link.obj"/>
      </geometry>
    </collision>
  </link>
  <joint name="LRAnkle_E11" type="revolute">
    <origin xyz="-0.07 0.04 0.0" rpy="0.05066 0.0 0.0"/>
    <axis xyz="1.0 0.0 0.0"/>
    <parent link="LRAnklePitch_Link"/>
    <child link="LRAnkle_E11_Link"/>
    <limit effort="0.0" lower="0" upper="0" velocity="0.0"/>
  </joint>
  <link name="LRAnkle_E11_Link">
    <inertial>
      <origin xyz="-3.2627e-08 -0.00061479 0.011938" rpy="0.0 0.0 0.0"/>
      <mass value="0.025"/>
      <inertia ixx="5.6966e-06" ixy="2.0874e-13" ixz="-6.1394e-13" iyy="5.4356e-06" iyz="2.0391e-07" izz="1.4865e-06"/>
    </inertial>
    <visual name="LRAnkle_E11_Link_visual">
      <origin xyz="0.0 0.0 0.0" rpy="0.0 0.0 0.0"/>
      <geometry>
        <mesh filename="../meshes/Ankle_E11_Link.STL"/>
      </geometry>
      <material name="">
        <color rgba="0.69804 0.69804 0.69804 1.0"/>
      </material>
    </visual>
    <collision name="LRAnkle_E11_Link_collision">
      <origin xyz="0.0 0.0 0.0" rpy="0.0 0.0 0.0"/>
      <geometry>
        <mesh filename="../meshes/Ankle_E11_Link.obj"/>
      </geometry>
    </collision>
  </link>
  <joint name="LRAnkle_E21" type="revolute">
    <origin xyz="-0.07 -0.04 0.0" rpy="-0.05066 0.0 0.0"/>
    <axis xyz="1.0 0.0 0.0"/>
    <parent link="LRAnklePitch_Link"/>
    <child link="LRAnkle_E21_Link"/>
    <limit effort="0.0" lower="0" upper="0" velocity="0.0"/>
  </joint>
  <link name="LRAnkle_E21_Link">
    <inertial>
      <origin xyz="-3.2627e-08 0.00061479 0.011938" rpy="0.0 0.0 0.0"/>
      <mass value="0.025"/>
      <inertia ixx="5.6966e-06" ixy="-2.0874e-13" ixz="-6.1394e-13" iyy="5.4356e-06" iyz="-2.0391e-07" izz="1.4865e-06"/>
    </inertial>
    <visual name="LRAnkle_E21_Link_visual">
      <origin xyz="0.0 0.0 0.0" rpy="0.0 0.0 0.0"/>
      <geometry>
        <mesh filename="../meshes/Ankle_E21_Link.STL"/>
      </geometry>
      <material name="">
        <color rgba="0.69804 0.69804 0.69804 1.0"/>
      </material>
    </visual>
    <collision name="LRAnkle_E21_Link_collision">
      <origin xyz="0.0 0.0 0.0" rpy="0.0 0.0 0.0"/>
      <geometry>
        <mesh filename="../meshes/Ankle_E21_Link.obj"/>
      </geometry>
    </collision>
  </link>
  <link name="LRAnkle_FT">
    <inertial>
      <origin xyz="0.016102 4.5932e-05 0.0078533" rpy="0.0 0.0 0.0"/>
      <mass value="1.2348"/>
      <inertia ixx="0.0018722" ixy="1.7891e-07" ixz="-0.00077672" iyy="0.0072567" iyz="3.8393e-06" izz="0.007267"/>
    </inertial>
    <visual name="LRAnkle_FT_visual">
      <origin xyz="0.0 0.0 0.0" rpy="0.0 0.0 0.0"/>
      <geometry>
        <mesh filename="../meshes/FL_FT_Link.STL"/>
      </geometry>
      <material name="">
        <color rgba="0.69804 0.69804 0.69804 1.0"/>
      </material>
    </visual>
    <collision name="LRAnkle_FT_collision">
      <origin xyz="0.0 0.0 0.0" rpy="0.0 0.0 0.0"/>
      <geometry>
        <mesh filename="../meshes/FL_FT_Link.obj"/>
      </geometry>
    </collision>
  </link>
  <joint name="LRAnkle_FT" type="fixed">
    <origin xyz="0.0 0.0 -0.058972" rpy="-3.1416 0.0 -1.2151e-16"/>
    <axis xyz="0.0 0.0 0.0"/>
    <parent link="LRAnklePitch_Link"/>
    <child link="LRAnkle_FT"/>
  </joint>
  <joint name="LRHip1" type="revolute">
    <origin xyz="0.0735 -0.11044 0.014269" rpy="3.4781e-17 -0.2618 -1.5708"/>
    <axis xyz="0.0 0.0 1.0"/>
    <parent link="RH5_Root_Link"/>
    <child link="LRHip1_Link"/>
    <limit effort="135.0" lower="-0.7854" upper="0.7854" velocity="1.8326"/>
  </joint>
  <link name="LRHip1_Link">
    <inertial>
      <origin xyz="-4.5821e-08 -0.0016166 0.04962" rpy="0.0 0.0 0.0"/>
      <mass value="0.5"/>
      <inertia ixx="0.0020247" ixy="8.3227e-09" ixz="3.6838e-09" iyy="0.00095763" iyz="-0.00012913" izz="0.0015078"/>
    </inertial>
    <visual name="LRHip1_Link_visual">
      <origin xyz="0.0 0.0 0.0" rpy="0.0 0.0 0.0"/>
      <geometry>
        <mesh filename="../meshes/LRHip1_Link.STL"/>
      </geometry>
      <material name="">
        <color rgba="0.69804 0.69804 0.69804 1.0"/>
      </material>
    </visual>
    <collision name="LRHip1_Link_collision">
      <origin xyz="0.0 0.0 0.0" rpy="0.0 0.0 0.0"/>
      <geometry>
        <mesh filename="../meshes/LRHip1_Link.obj"/>
      </geometry>
    </collision>
  </link>
  <joint name="LRHip2" type="revolute">
    <origin xyz="0.0 0.0 0.0" rpy="-4.0161e-17 0.5236 -2.0081e-17"/>
    <axis xyz="0.0 1.0 0.0"/>
    <parent link="LRHip1_Link"/>
    <child link="LRHip2_Link"/>
    <limit effort="135.0" lower="-0.8727" upper="0.4363" velocity="1.8326"/>
  </joint>
  <link name="LRHip2_Link">
    <inertial>
      <origin xyz="0.0013954 0.0024309 -0.0053241" rpy="0.0 0.0 0.0"/>
      <mass value="0.969"/>
      <inertia ixx="0.0017014" ixy="7.9487e-05" ixz="4.6091e-05" iyy="0.0011578" iyz="-0.0003011" izz="0.0015428"/>
    </inertial>
    <visual name="LRHip2_Link_visual">
      <origin xyz="0.0 0.0 0.0" rpy="0.0 0.0 0.0"/>
      <geometry>
        <mesh filename="../meshes/LRHip2_Link.STL"/>
      </geometry>
      <material name="">
        <color rgba="0.69804 0.69804 0.69804 1.0"/>
      </material>
    </visual>
  </link>
  <joint name="LRHip3" type="revolute">
    <origin xyz="0.0 0.0 0.0" rpy="9.8608e-32 2.7756e-17 -4.9304e-32"/>
    <axis xyz="-0.96593 0.0 -0.25882"/>
    <parent link="LRHip2_Link"/>
    <child link="LRHip3_Link"/>
    <limit effort="378.0" lower="-1.16" upper="0.28" velocity="2.321"/>
  </joint>
  <joint name="LRHip3_Act1" type="prismatic">
    <origin xyz="0.2974 0.0 0.0" rpy="3.1416 -5.2385e-31 0.0"/>
    <axis xyz="1.0 0.0 0.0"/>
    <parent link="LRHip3_B11_Link"/>
    <child link="LRHip3_Act1_Link"/>
    <limit effort="3000.0" lower="-0.0255" upper="0.1335" velocity="0.175"/>
  </joint>
  <link name="LRHip3_Act1_Link">
    <inertial>
      <origin xyz="-0.16939 -0.00046849 4.4559e-05" rpy="0.0 0.0 0.0"/>
      <mass value="1.224"/>
      <inertia ixx="0.00077764" ixy="5.3759e-05" ixz="4.1291e-07" iyy="0.0059452" iyz="-2.966e-08" izz="0.0059569"/>
    </inertial>
    <visual name="LRHip3_Act1_Link_visual">
      <origin xyz="0.0 0.0 0.0" rpy="0.0 0.0 0.0"/>
      <geometry>
        <mesh filename="../meshes/LLHip3_Act1_Link.STL"/>
      </geometry>
      <material name="">
        <color rgba="0.69804 0.69804 0.69804 1.0"/>
      </material>
    </visual>
    <collision name="LRHip3_Act1_Link_collision">
      <origin xyz="0.0 0.0 0.0" rpy="0.0 0.0 0.0"/>
      <geometry>
        <mesh filename="../meshes/LLHip3_Act1_Link.obj"/>
      </geometry>
    </collision>
  </link>
  <joint name="LRHip3_B11" type="revolute">
    <origin xyz="0.018117 -0.09 -0.067615" rpy="-2.5686 1.2577 0.59588"/>
    <axis xyz="0.0 0.0 1.0"/>
    <parent link="LRHip2_Link"/>
    <child link="LRHip3_B11_Link"/>
    <limit effort="0.0" lower="0" upper="0" velocity="0.0"/>
  </joint>
  <link name="LRHip3_B11_Link">
    <inertial>
      <origin xyz="0.10645 -2.4289e-13 1.9568e-15" rpy="0.0 0.0 0.0"/>
      <mass value="0.16503"/>
      <inertia ixx="3.4113e-06" ixy="3.8263e-12" ixz="-7.0537e-16" iyy="0.00081967" iyz="-1.7661e-15" izz="0.00081963"/>
    </inertial>
    <visual name="LRHip3_B11_Link_visual">
      <origin xyz="0.0 0.0 0.0" rpy="0.0 0.0 0.0"/>
      <geometry>
        <mesh filename="../meshes/Hip3_B11_Link.STL"/>
      </geometry>
      <material name="">
        <color rgba="0.69804 0.69804 0.69804 1.0"/>
      </material>
    </visual>
    <collision name="LRHip3_B11_Link_collision">
      <origin xyz="0.0 0.0 0.0" rpy="0.0 0.0 0.0"/>
      <geometry>
        <mesh filename="../meshes/Hip3_B11_Link.obj"/>
      </geometry>
    </collision>
  </link>
  <link name="LRHip3_Link">
    <inertial>
      <origin xyz="0.051263 0.0072511 -0.19232" rpy="0.0 0.0 0.0"/>
      <mass value="1.0487"/>
      <inertia ixx="0.020383" ixy="3.4682e-05" ixz="0.0047264" iyy="0.022629" iyz="-0.00014075" izz="0.0042174"/>
    </inertial>
    <visual name="LRHip3_Link_visual">
      <origin xyz="0.0 0.0 0.0" rpy="0.0 0.0 0.0"/>
      <geometry>
        <mesh filename="../meshes/Hip3_Link.STL"/>
      </geometry>
      <material name="">
        <color rgba="0.69804 0.69804 0.69804 1.0"/>
      </material>
    </visual>
    <collision name="LRHip3_Link_collision">
      <origin xyz="0.0 0.0 0.0" rpy="0.0 0.0 0.0"/>
      <geometry>
        <mesh filename="../meshes/Hip3_Link.obj"/>
      </geometry>
    </collision>
  </link>
  <joint name="LRKnee" type="revolute">
    <origin xyz="0.10788 -0.0005 -0.39684" rpy="3.1416 1.309 -2.9949e-15"/>
    <axis xyz="0.0 0.0 1.0"/>
    <parent link="LRHip3_Link"/>
    <child link="LRKnee_Link"/>
    <limit effort="325.0" lower="-0.026" upper="1.43" velocity="2.321"/>
  </joint>
  <joint name="LRKnee_Act1" type="prismatic">
    <origin xyz="0.27341 0.0 0.0" rpy="0.0 7.7037e-32 -6.9389e-18"/>
    <axis xyz="1.0 0.0 0.0"/>
    <parent link="LRKnee_B11_Link"/>
    <child link="LRKnee_Act1_Link"/>
    <limit effort="1825.0" lower="0.0" upper="0.1175" velocity="0.14"/>
  </joint>
  <link name="LRKnee_Act1_Link">
    <inertial>
      <origin xyz="-0.10645 -2.465e-13 1.5266e-16" rpy="0.0 0.0 0.0"/>
      <mass value="0.16503"/>
      <inertia ixx="3.4113e-06" ixy="-3.8263e-12" ixz="-7.1291e-16" iyy="0.00081967" iyz="1.7661e-15" izz="0.00081963"/>
    </inertial>
    <visual name="LRKnee_Act1_Link_visual">
      <origin xyz="0.0 0.0 0.0" rpy="0.0 0.0 0.0"/>
      <geometry>
        <mesh filename="../meshes/Knee_Act1_Link.STL"/>
      </geometry>
      <material name="">
        <color rgba="0.69804 0.69804 0.69804 1.0"/>
      </material>
    </visual>
    <collision name="LRKnee_Act1_Link_collision">
      <origin xyz="0.0 0.0 0.0" rpy="0.0 0.0 0.0"/>
      <geometry>
        <mesh filename="../meshes/Knee_Act1_Link.obj"/>
      </geometry>
    </collision>
  </link>
  <joint name="LRKnee_B11" type="revolute">
    <origin xyz="0.020175 0.070737 -0.075294" rpy="-0.15081 1.3059 -0.15617"/>
    <axis xyz="0.0 0.0 -1.0"/>
    <parent link="LRHip3_Link"/>
    <child link="LRKnee_B11_Link"/>
    <limit effort="0.0" lower="0" upper="0" velocity="0.0"/>
  </joint>
  <link name="LRKnee_B11_Link">
    <inertial>
      <origin xyz="0.16939 0.00046866 4.4515e-05" rpy="0.0 0.0 0.0"/>
      <mass value="1.224"/>
      <inertia ixx="0.00077764" ixy="5.3789e-05" ixz="-4.184e-07" iyy="0.0059454" iyz="3.0443e-08" izz="0.0059571"/>
    </inertial>
    <visual name="LRKnee_B11_Link_visual">
      <origin xyz="0.0 0.0 0.0" rpy="0.0 0.0 0.0"/>
      <geometry>
        <mesh filename="../meshes/Knee_B11_Link.STL"/>
      </geometry>
      <material name="">
        <color rgba="0.69804 0.69804 0.69804 1.0"/>
      </material>
    </visual>
    <collision name="LRKnee_B11_Link_collision">
      <origin xyz="0.0 0.0 0.0" rpy="0.0 0.0 0.0"/>
      <geometry>
        <mesh filename="../meshes/Knee_B11_Link.obj"/>
      </geometry>
    </collision>
  </link>
  <link name="LRKnee_Link">
    <inertial>
      <origin xyz="0.11911 -0.001888 0.00058411" rpy="0.0 0.0 0.0"/>
      <mass value="0.94401"/>
      <inertia ixx="0.0017333" ixy="-5.494e-05" ixz="-0.00010491" iyy="0.01483" iyz="2.0836e-06" izz="0.014618"/>
    </inertial>
    <visual name="LRKnee_Link_visual">
      <origin xyz="0.0 0.0 0.0" rpy="0.0 0.0 0.0"/>
      <geometry>
        <mesh filename="../meshes/Knee_Link.STL"/>
      </geometry>
      <material name="">
        <color rgba="0.69804 0.69804 0.69804 1.0"/>
      </material>
    </visual>
    <collision name="LRKnee_Link_collision">
      <origin xyz="0.0 0.0 0.0" rpy="0.0 0.0 0.0"/>
      <geometry>
        <mesh filename="../meshes/Knee_Link.obj"/>
      </geometry>
    </collision>
  </link>
  <link name="RH5_Root_Link">
    <inertial>
      <origin xyz="0.057726 2.1253e-05 0.13284" rpy="0.0 0.0 0.0"/>
      <mass value="3.341"/>
      <inertia ixx="0.030478" ixy="-3.6697e-06" ixz="-0.0019703" iyy="0.01926" iyz="-7.8077e-06" izz="0.036595"/>
    </inertial>
    <visual name="RH5_Root_Link_visual">
      <origin xyz="0.0 0.0 0.0" rpy="0.0 0.0 0.0"/>
      <geometry>
        <mesh filename="../meshes/RH5_Root_Link.STL"/>
      </geometry>
      <material name="">
        <color rgba="0.69804 0.69804 0.69804 1.0"/>
      </material>
    </visual>
    <collision name="RH5_Root_Link_collision">
      <origin xyz="0.0 0.0 0.0" rpy="0.0 0.0 0.0"/>
      <geometry>
        <mesh filename="../meshes/RH5_Root_Link.obj"/>
      </geometry>
    </collision>
  </link>
</robot>
